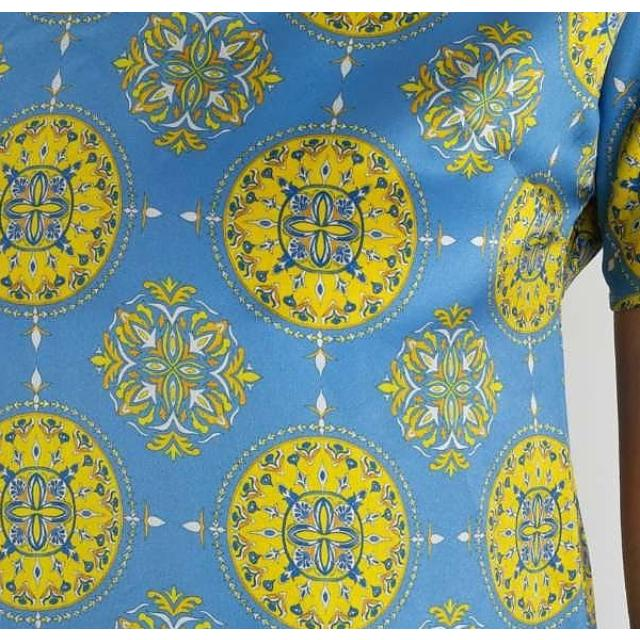silk: (0, 11, 640, 628)
